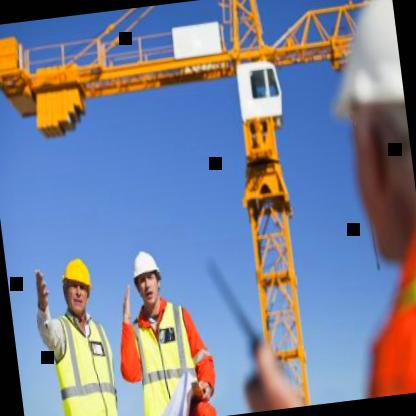helmet: (317, 0, 416, 283), (56, 250, 98, 320), (126, 242, 166, 309)
